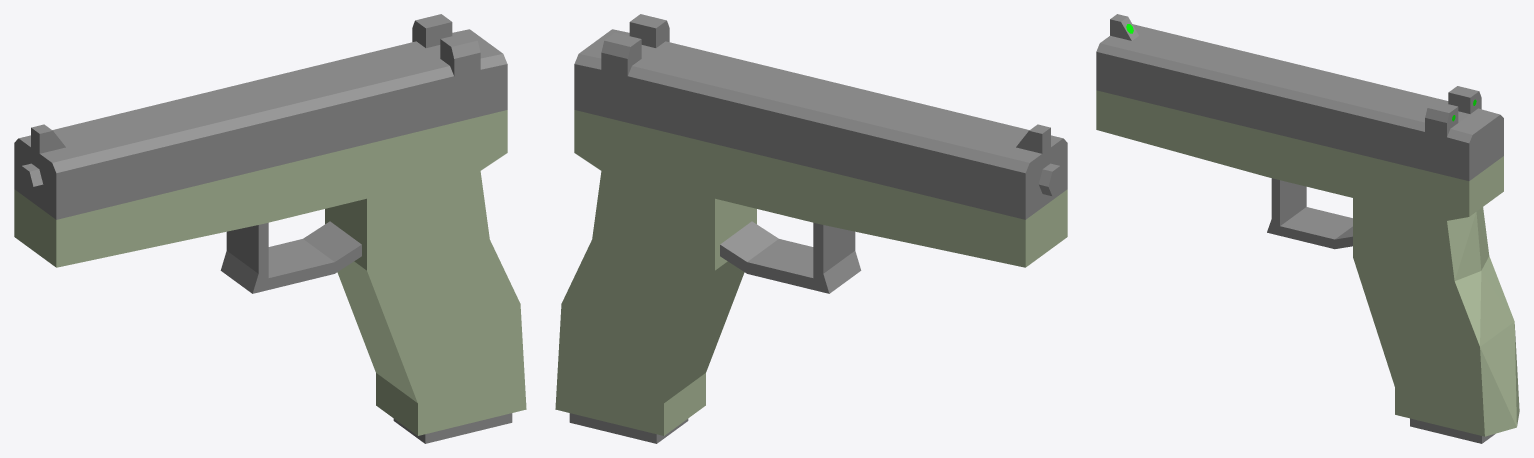
The picture shows the model from 3 angles, left to right: view 1: azimuth 30°, elevation 25°; view 2: azimuth 150°, elevation 25°; view 3: azimuth 330°, elevation 25°; orthographic projection. The views are drawn at different scales.
Parts seen in each view (by area): view 1: Gun, Top; view 2: Gun, Top; view 3: Gun, Top.
Part boxes in pixels (x1,y1,x2,y2): Gun: (14,110,526,443); Top: (14,14,507,219); Gun: (555,110,1067,443); Top: (574,14,1067,219); Gun: (1096,90,1519,443); Top: (1096,14,1503,180).
Size of the model in its own units: 0.2017 by 0.1522 by 0.0295.
